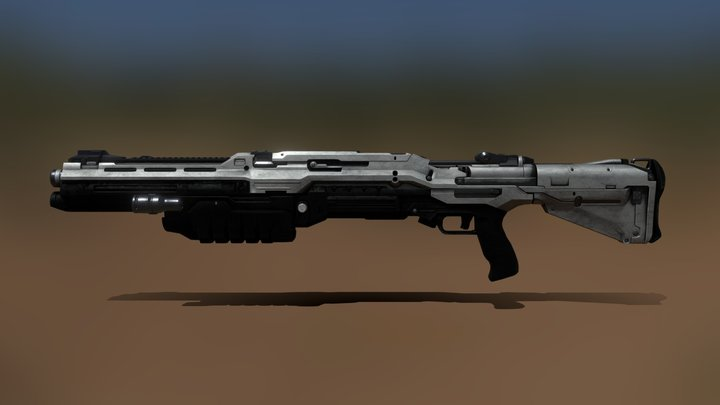weapon: (48, 147, 670, 281)
